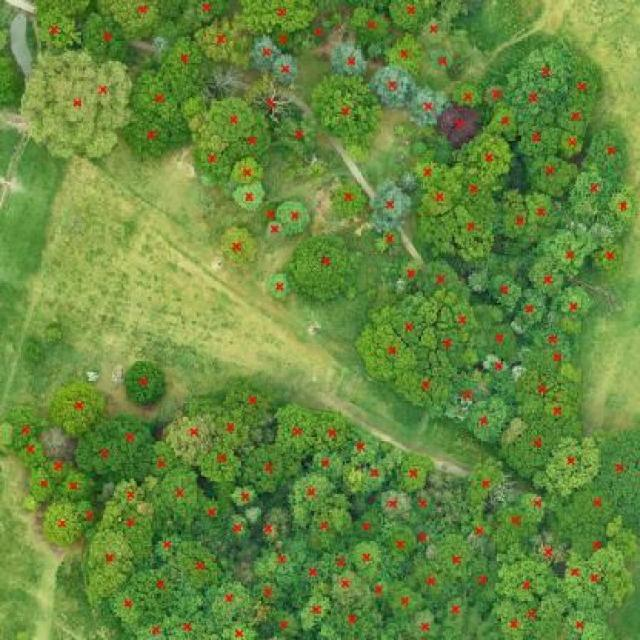tree: (20, 65, 123, 167), (308, 65, 386, 170), (58, 49, 139, 143), (283, 228, 363, 312), (592, 406, 640, 532), (535, 427, 606, 501), (350, 313, 421, 385), (184, 10, 261, 76), (390, 349, 456, 423), (82, 522, 138, 609), (47, 375, 113, 448), (503, 408, 565, 485), (121, 59, 197, 121), (507, 35, 578, 101), (237, 68, 312, 129), (422, 210, 505, 265), (58, 423, 134, 480), (118, 112, 198, 166), (455, 127, 523, 190), (162, 405, 225, 473), (453, 449, 516, 517), (456, 379, 513, 453), (153, 455, 207, 532), (199, 88, 270, 146), (229, 0, 328, 40), (452, 163, 508, 231), (252, 533, 312, 596), (512, 365, 586, 416), (371, 288, 442, 340), (362, 170, 416, 238), (120, 345, 174, 412), (535, 219, 596, 278), (200, 570, 266, 624), (99, 0, 176, 46), (116, 495, 162, 572), (78, 8, 137, 68), (418, 318, 480, 375), (409, 553, 472, 609), (511, 343, 592, 386), (490, 551, 558, 602), (549, 478, 622, 525), (583, 121, 634, 188), (265, 399, 318, 463), (500, 74, 565, 126), (589, 536, 632, 612), (380, 575, 437, 632), (171, 535, 226, 594), (520, 152, 592, 197), (372, 517, 425, 578), (310, 597, 384, 640), (573, 160, 622, 222), (307, 496, 355, 559), (592, 504, 640, 567), (269, 108, 326, 161), (0, 399, 52, 457), (433, 522, 478, 587), (371, 59, 423, 115), (436, 592, 496, 640), (30, 497, 82, 552), (321, 31, 374, 84), (402, 76, 453, 130), (195, 439, 249, 490), (522, 252, 575, 303), (551, 601, 620, 640), (498, 185, 540, 249), (155, 37, 216, 81), (291, 548, 337, 606), (25, 13, 87, 56), (568, 50, 608, 116), (511, 119, 569, 164), (468, 315, 523, 362), (313, 568, 373, 611), (342, 5, 396, 52), (393, 450, 447, 496), (223, 121, 279, 165), (463, 549, 502, 612), (440, 371, 483, 428), (215, 222, 262, 273), (483, 271, 531, 320), (184, 489, 230, 540), (528, 188, 572, 241), (412, 258, 473, 296), (292, 585, 340, 633), (509, 283, 556, 332), (413, 181, 469, 222), (384, 35, 431, 83), (510, 591, 556, 640), (105, 581, 143, 640), (245, 572, 297, 615), (229, 380, 282, 422), (202, 407, 256, 448), (370, 480, 421, 523), (315, 400, 362, 446), (324, 177, 368, 226), (358, 558, 396, 614), (556, 280, 602, 326), (436, 102, 481, 149), (387, 0, 436, 43), (338, 507, 389, 548), (524, 318, 582, 354), (483, 95, 523, 147), (556, 93, 599, 141), (135, 435, 184, 477), (133, 565, 187, 603), (119, 406, 156, 460), (224, 149, 275, 188), (189, 139, 233, 184), (517, 485, 555, 537), (437, 298, 486, 338), (276, 194, 318, 240), (106, 475, 157, 512), (493, 408, 533, 455), (165, 600, 212, 640), (492, 499, 526, 553), (400, 514, 448, 551), (532, 528, 569, 575), (458, 503, 494, 551), (31, 0, 100, 25), (406, 483, 446, 526), (230, 180, 275, 217), (416, 15, 461, 51), (168, 89, 217, 122), (257, 504, 292, 550), (569, 522, 609, 562), (19, 468, 61, 506), (369, 219, 406, 262), (342, 428, 393, 459), (156, 14, 205, 46), (553, 547, 582, 601), (410, 157, 458, 189), (390, 255, 432, 291), (304, 447, 348, 481), (262, 606, 306, 640), (0, 58, 26, 115), (269, 50, 309, 87), (180, 0, 232, 28), (560, 544, 588, 596), (13, 433, 50, 472), (477, 356, 523, 387), (460, 263, 495, 303), (405, 606, 446, 640), (249, 35, 283, 75), (542, 404, 590, 431), (267, 23, 305, 57), (147, 527, 181, 565), (321, 543, 359, 577), (212, 614, 261, 640), (222, 480, 266, 508), (76, 489, 102, 536), (12, 333, 45, 370), (263, 269, 295, 306), (445, 79, 483, 110), (367, 458, 396, 498), (56, 479, 98, 506), (338, 459, 367, 498), (221, 511, 255, 544), (431, 48, 466, 79), (613, 190, 636, 236), (394, 165, 425, 198), (38, 321, 77, 347), (303, 19, 335, 50), (0, 0, 17, 57), (256, 220, 292, 246), (483, 80, 512, 112), (361, 38, 395, 65), (256, 200, 287, 229), (48, 449, 70, 488), (600, 244, 623, 279), (500, 611, 526, 640), (138, 618, 170, 640), (243, 503, 266, 531), (407, 137, 431, 161)
